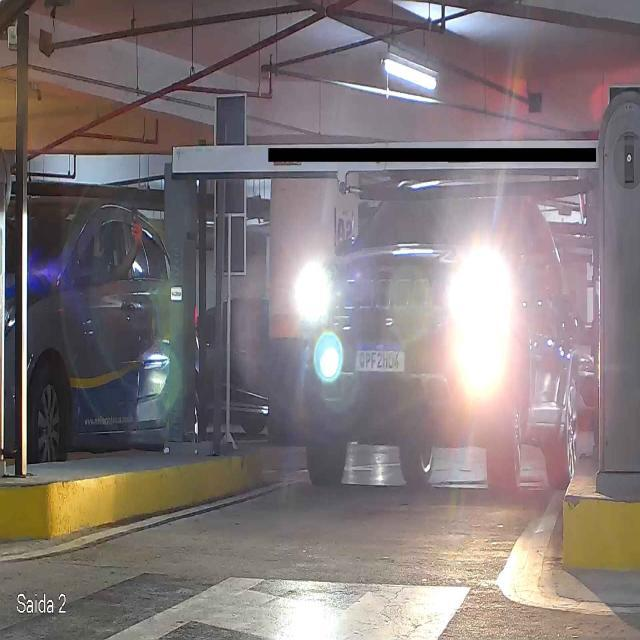mercosul_plate: (353, 342, 407, 374)
